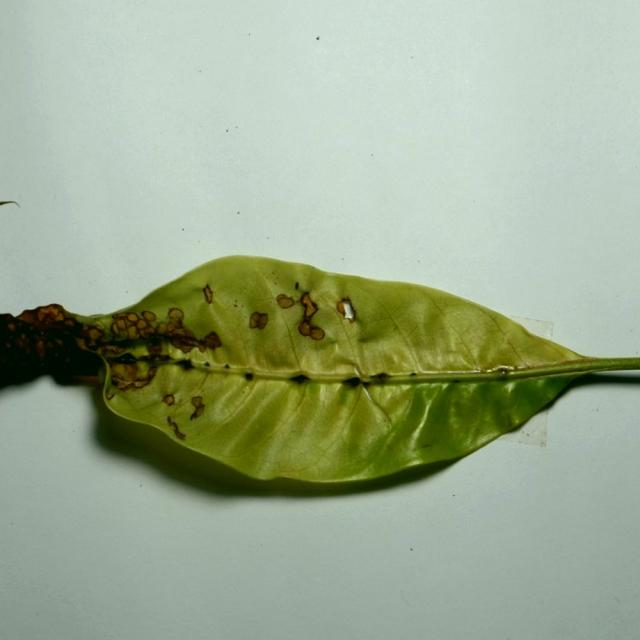Anthracnose: (284, 290, 327, 344), (162, 390, 205, 440), (109, 310, 157, 343), (109, 361, 159, 391), (165, 330, 220, 355), (33, 304, 66, 322), (40, 352, 69, 372), (249, 311, 268, 330), (276, 294, 295, 308), (167, 307, 183, 321), (87, 327, 103, 341), (16, 334, 30, 350), (202, 284, 213, 304), (35, 340, 45, 359), (113, 318, 126, 331), (191, 395, 203, 407), (373, 372, 390, 380), (105, 389, 115, 400), (244, 372, 254, 381), (7, 323, 16, 332), (409, 372, 418, 377), (294, 282, 299, 290), (5, 342, 11, 348)
Mango: (0, 255, 639, 493)
